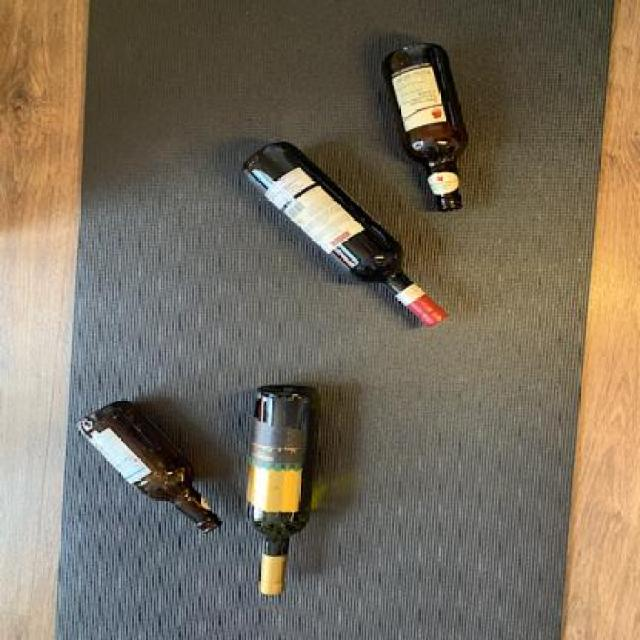trash: (237, 138, 446, 334), (71, 399, 224, 539), (239, 375, 332, 603), (382, 41, 467, 216)
